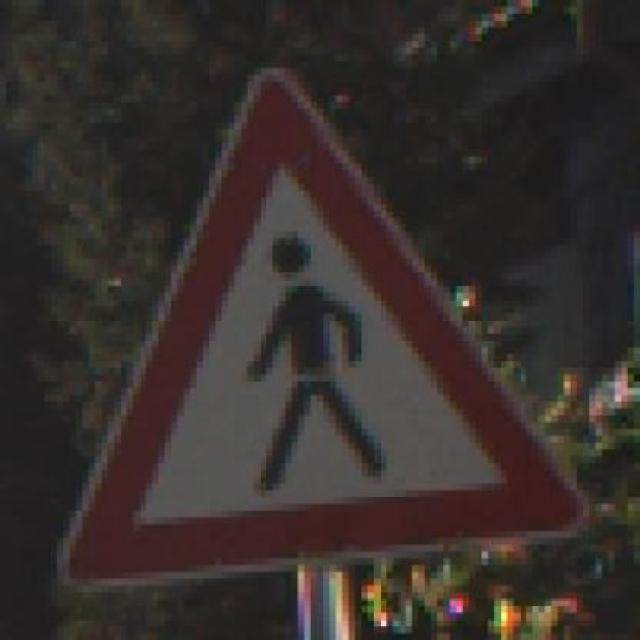Pedestrian Crossing: (42, 59, 595, 583)
